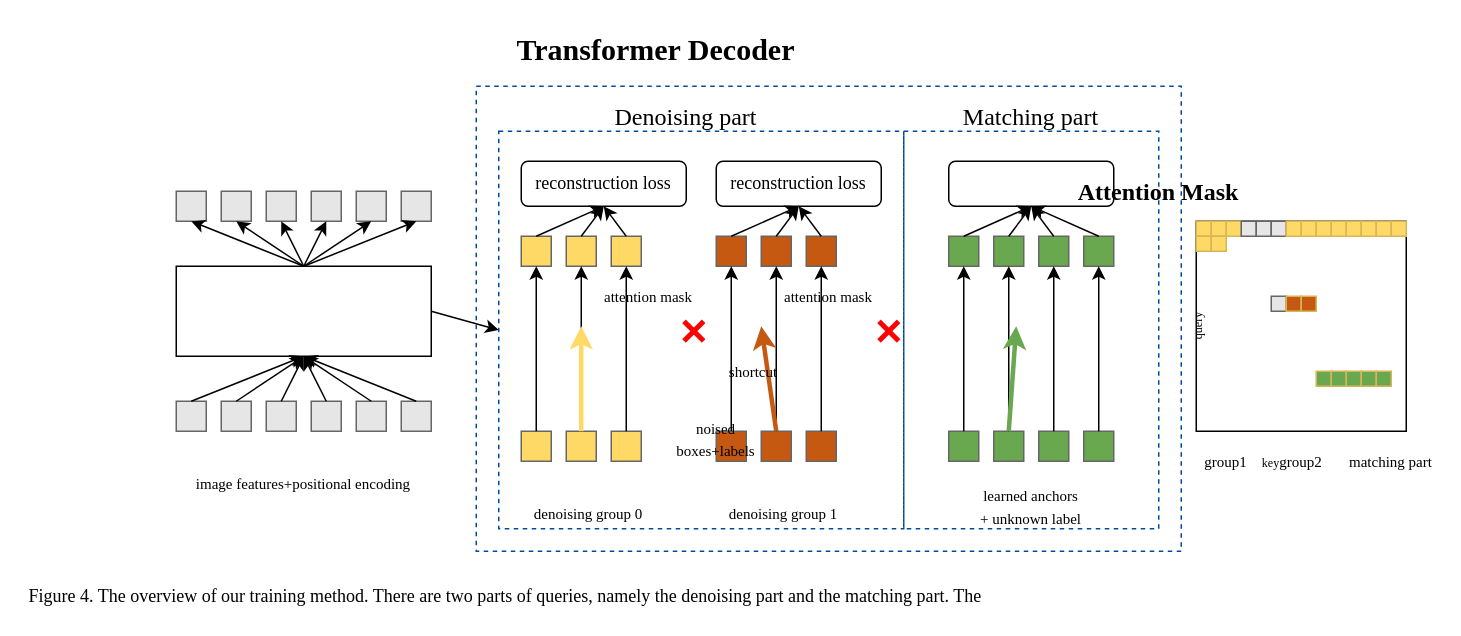
The diagram is 1461 pixels wide and 636 high, and some of its shapes have lost their labels. Each missing label, with the box of its shape:
Hungarian loss: (947, 160, 1114, 206)
Transformer Encoder: (175, 265, 431, 356)
